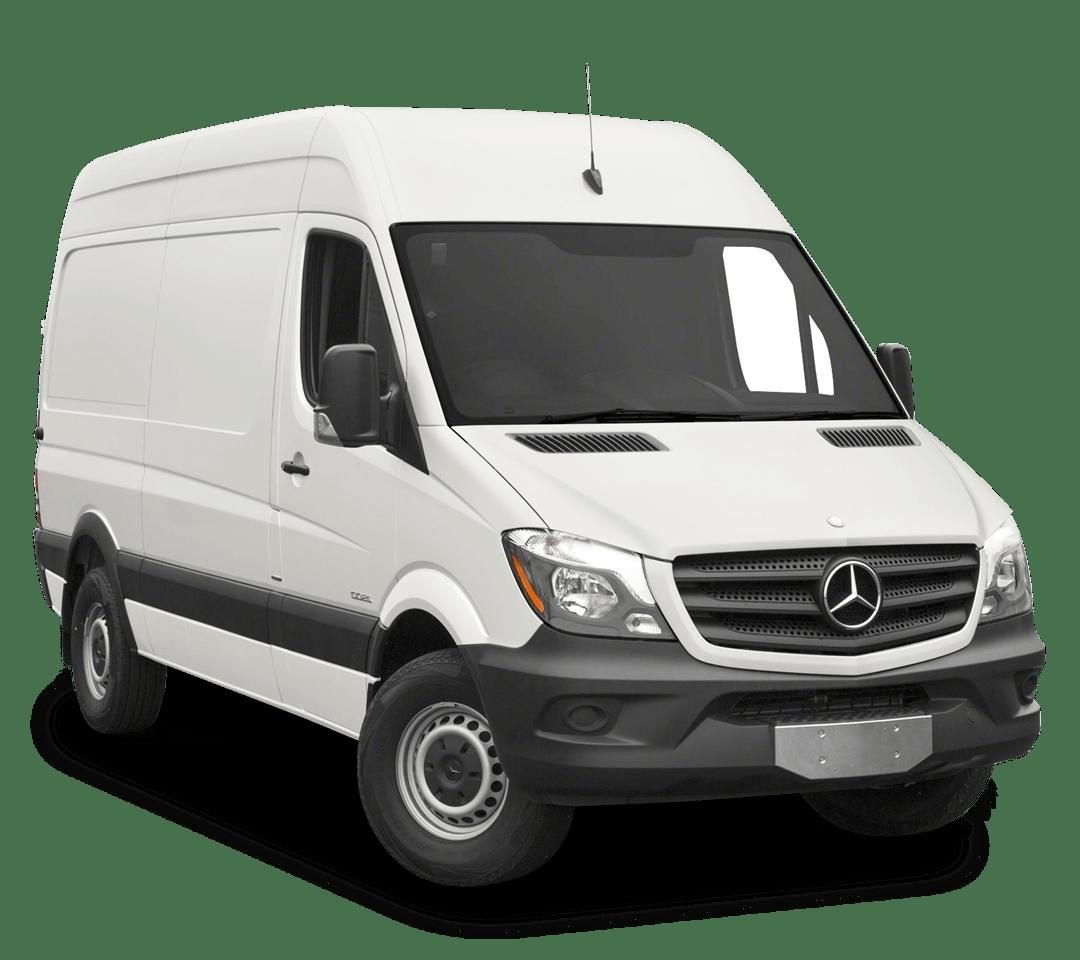car: (29, 114, 1049, 885)
